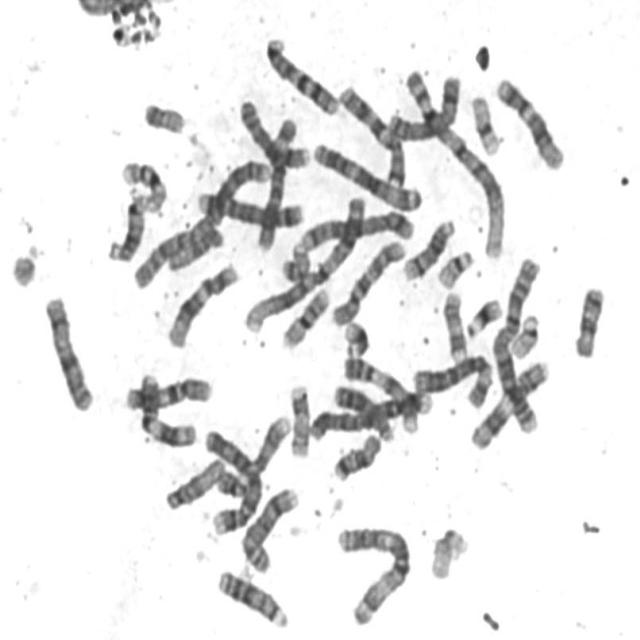A1: (400, 63, 510, 260), (239, 188, 369, 336)
A2: (126, 150, 276, 291), (488, 249, 546, 438)
A3: (308, 133, 426, 212), (333, 516, 415, 626)
B4: (199, 421, 265, 538), (306, 384, 434, 444)
B5: (296, 203, 417, 253), (193, 182, 307, 230)
C10: (327, 232, 410, 328), (121, 369, 215, 413)
C11: (468, 354, 552, 452), (133, 366, 201, 449)
C12: (492, 70, 568, 172), (164, 254, 242, 350)
C6: (252, 108, 300, 255), (408, 346, 497, 411)
C7: (334, 76, 410, 190), (260, 29, 342, 117)
C8: (238, 480, 302, 576), (235, 92, 312, 170)
C9: (214, 408, 296, 502), (340, 349, 426, 433)
D13: (215, 561, 292, 631), (329, 377, 397, 444)
D14: (400, 211, 460, 281), (103, 188, 150, 264)
D15: (161, 451, 229, 512), (163, 218, 225, 274)
E16: (278, 278, 333, 351), (117, 153, 170, 214)
E17: (440, 283, 472, 362), (285, 377, 314, 460)
E18: (570, 277, 608, 360), (330, 426, 384, 483)
F19: (427, 520, 472, 582), (468, 87, 504, 157)
F20: (139, 94, 188, 136), (277, 237, 314, 284)
G21: (463, 290, 506, 340), (340, 314, 372, 359)
G22: (434, 242, 478, 290), (506, 306, 544, 360)
X: (40, 288, 98, 414), (384, 65, 464, 143)
